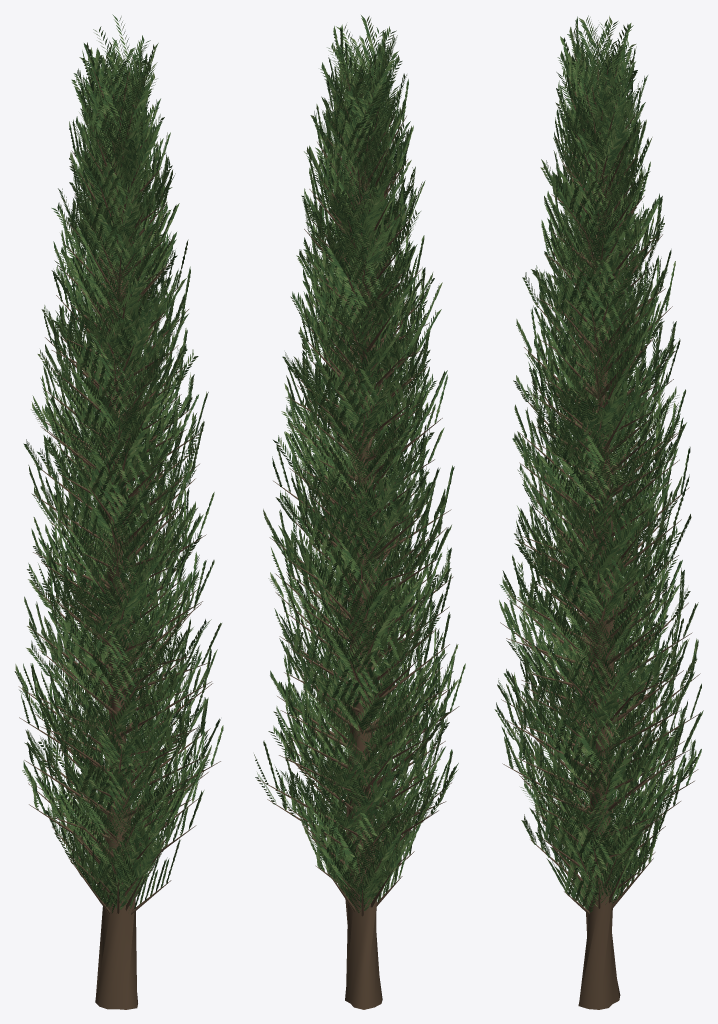
File: ItalianCypress.fbx
The picture shows the model from 3 angles, left to right: view 1: azimuth 30°, elevation 25°; view 2: azimuth 150°, elevation 25°; view 3: azimuth 270°, elevation 25°; orthographic projection.
Parts seen in each view (by area): view 1: ItalianCypress_LOD0; view 2: ItalianCypress_LOD0; view 3: ItalianCypress_LOD0.
Boxes of the visible parts, box(x1,y1,x2,y2) form: ItalianCypress_LOD0: box(14, 14, 223, 1009); ItalianCypress_LOD0: box(254, 15, 465, 1009); ItalianCypress_LOD0: box(494, 15, 703, 1009).
Size of what is drawn, in the model's own units: 120 by 621 by 119.
